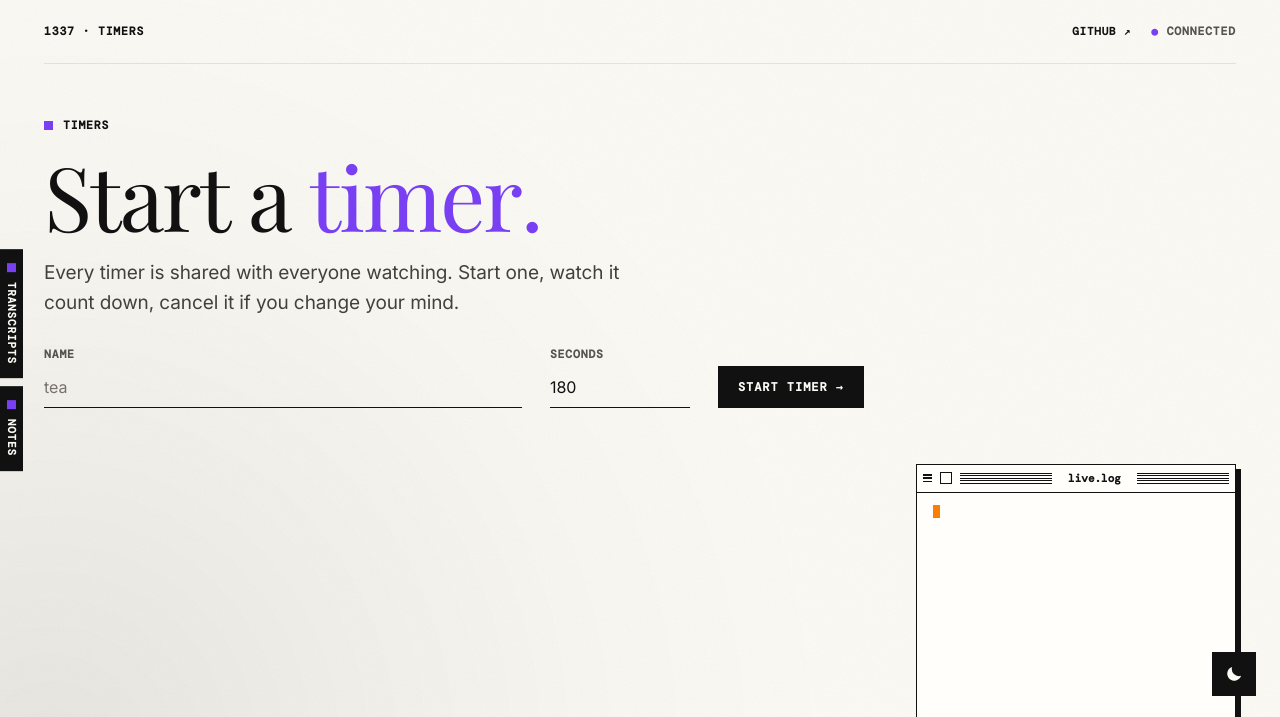
the look switch › turns the page into the Moonrise night
Click the button named "Switch to Moonrise": (1234, 674) [1212,652,1256,696]
Wait 4180 ms
(page scrolled)
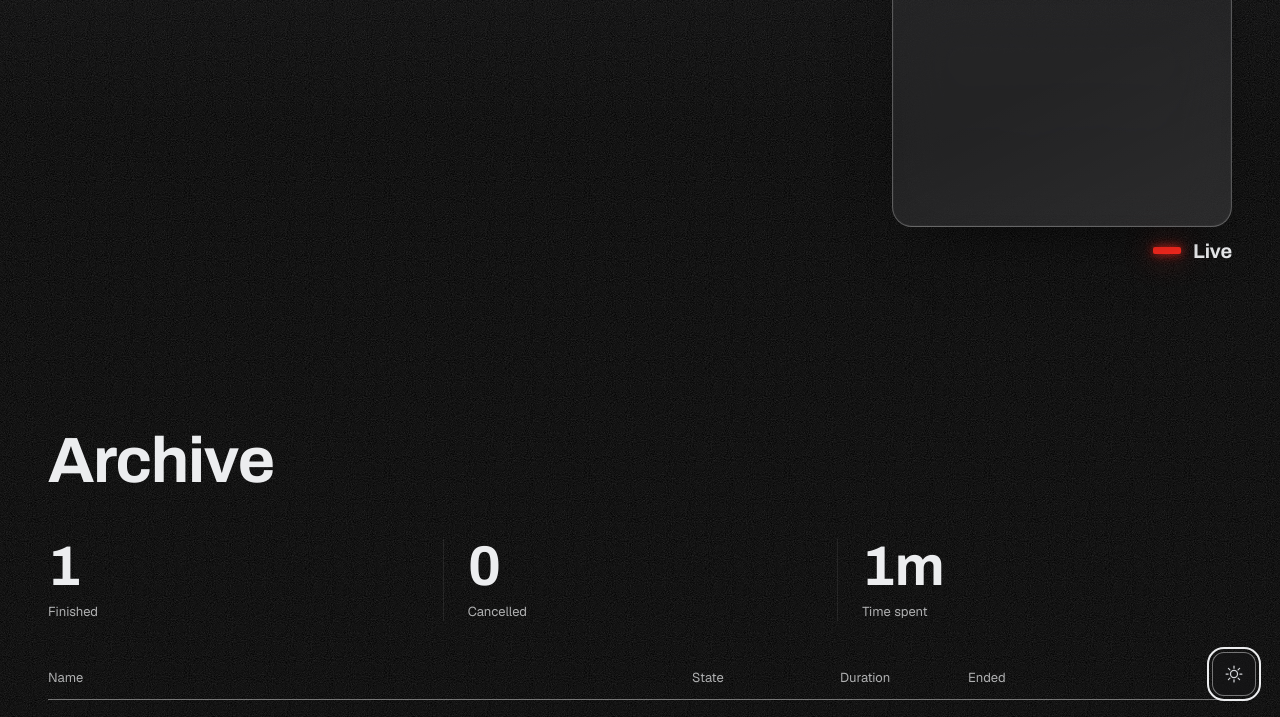
Expected: the header with class "top" is gone
